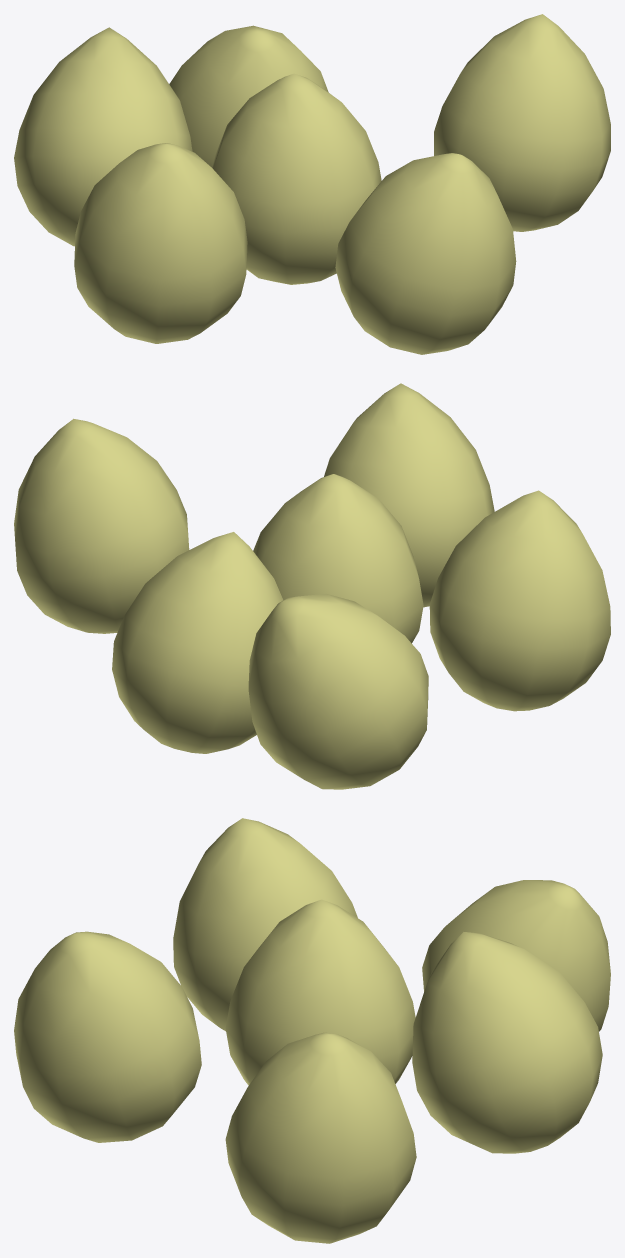
The model's file is Eggs.dae.
3 renders of one model, top to bottom at view 1: azimuth 30°, elevation 25°; view 2: azimuth 150°, elevation 25°; view 3: azimuth 270°, elevation 25°, orthographic. The views are drawn at different scales.
Parts seen in each view (by area): view 1: Sphere_002; view 2: Sphere_002; view 3: Sphere_002.
Boxes of the visible parts, x1=… form: Sphere_002: x1=14, y1=14, x2=610, y2=354; Sphere_002: x1=14, y1=383, x2=610, y2=789; Sphere_002: x1=14, y1=818, x2=610, y2=1243.
Bounding box in the file's own units: 6.87 × 6.22 × 2.59.
